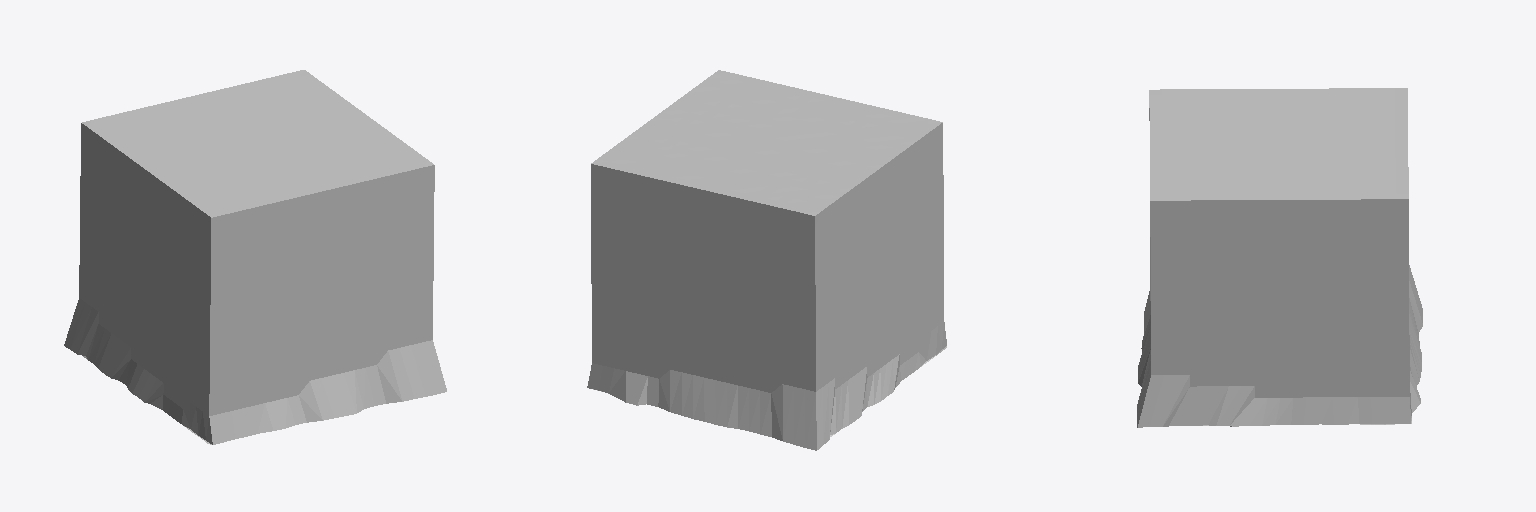
Rendered from mod0130.obj.
3 renders of one model, left to right at view 1: azimuth 30°, elevation 25°; view 2: azimuth 150°, elevation 25°; view 3: azimuth 270°, elevation 25°, orthographic.
Visible parts, largest first — view 1: Box001; view 2: Box001; view 3: Box001.
Boxes of the visible parts, x1=… form: Box001: x1=64, y1=70, x2=446, y2=444; Box001: x1=587, y1=70, x2=946, y2=450; Box001: x1=1137, y1=88, x2=1422, y2=427.
Size of the model in its own units: 0.5799 by 0.523 by 0.5979.